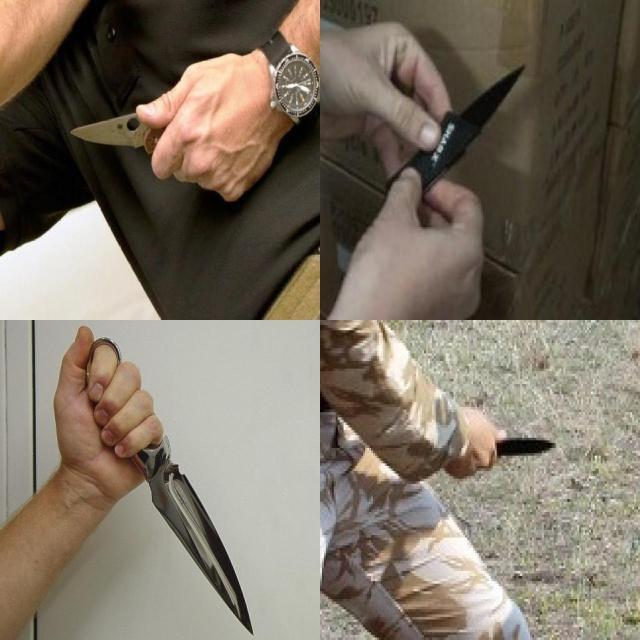-: (92, 403, 258, 635), (396, 53, 530, 206), (63, 99, 205, 188), (459, 417, 557, 473)
